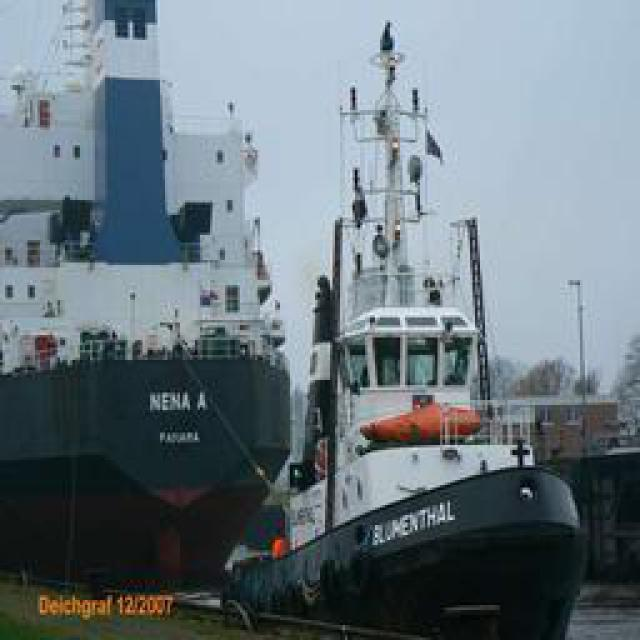Ship: (201, 4, 589, 627)
